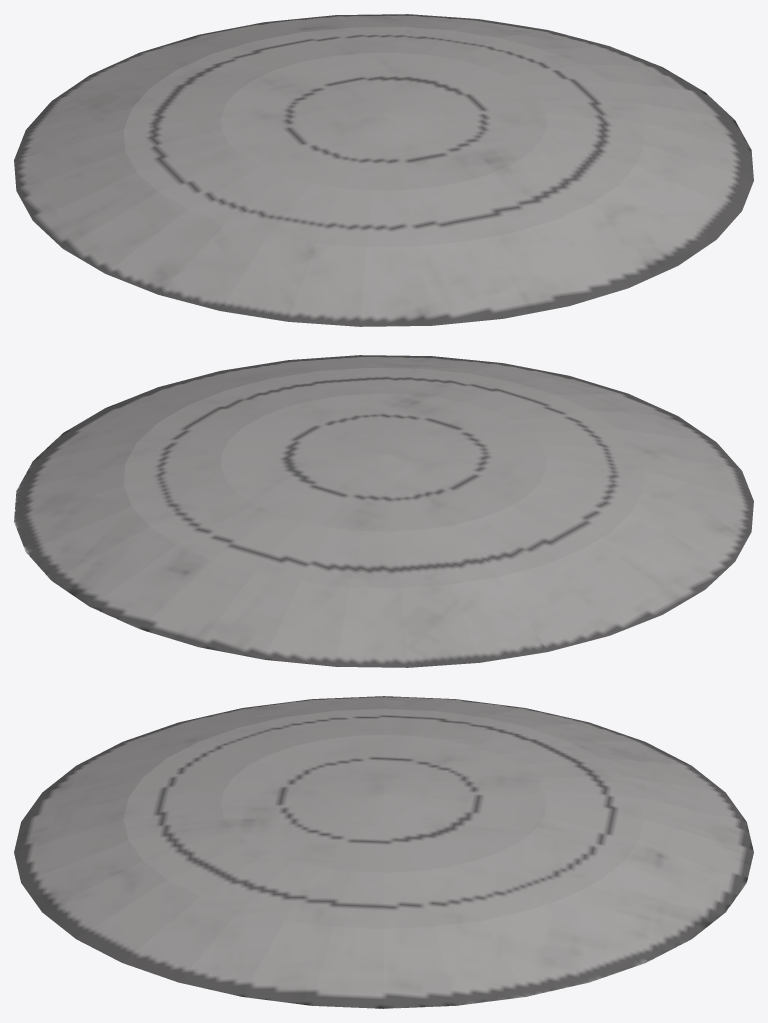
Rendered from shield-vibranium.obj.
The picture shows the model from 3 angles, top to bottom: view 1: azimuth 30°, elevation 25°; view 2: azimuth 150°, elevation 25°; view 3: azimuth 270°, elevation 25°; orthographic projection.
Parts seen in each view (by area): view 1: Circle; view 2: Circle; view 3: Circle.
Boxes of the visible parts, x1,y1,x2,y2 form: Circle: [14, 14, 753, 326]; Circle: [14, 355, 753, 667]; Circle: [14, 696, 753, 1008].
Size of the model in its own units: 2 by 0.1756 by 2.
